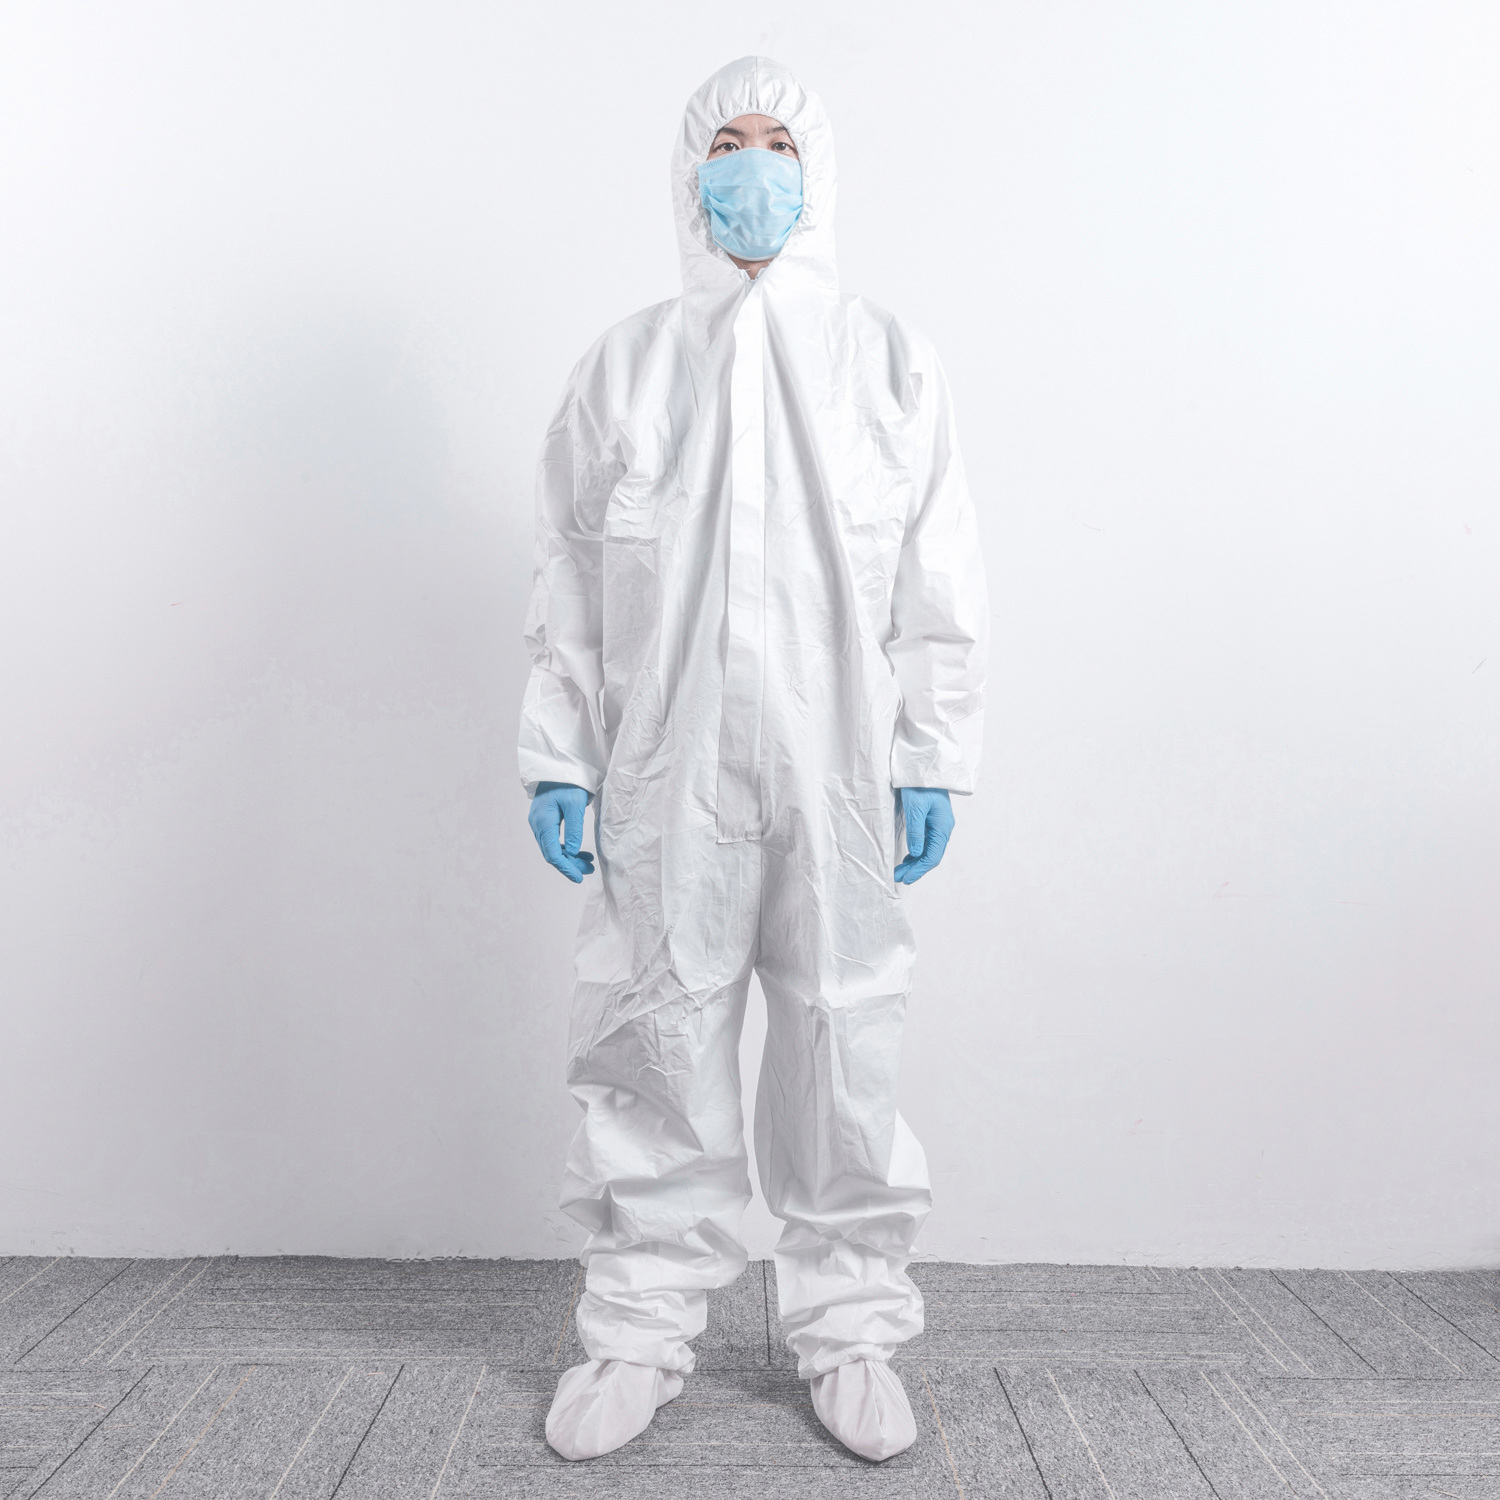Coverall: (512, 52, 980, 1362)
Gloves: (519, 753, 602, 887), (897, 777, 962, 891)
with_mask: (690, 137, 811, 261)
